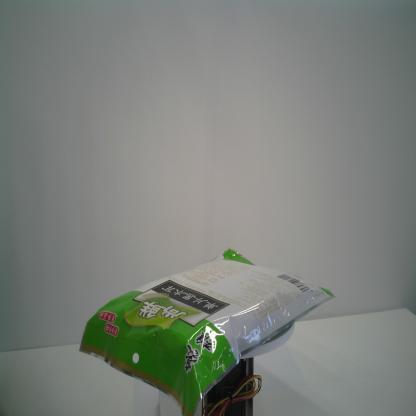Dried Food: (78, 247, 336, 416)
